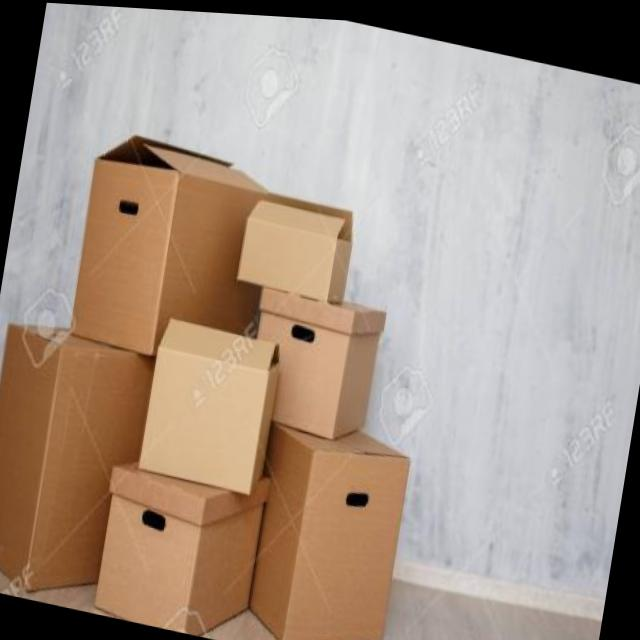box: (57, 114, 286, 413), (0, 313, 164, 614), (241, 387, 429, 640), (80, 456, 287, 640), (232, 243, 402, 454), (125, 303, 298, 507), (230, 185, 362, 313)
